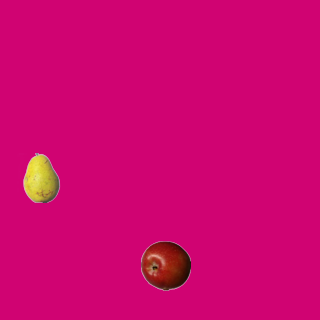Apple Braeburn: (140, 240, 190, 290)
Pear Monster: (16, 152, 66, 202)
